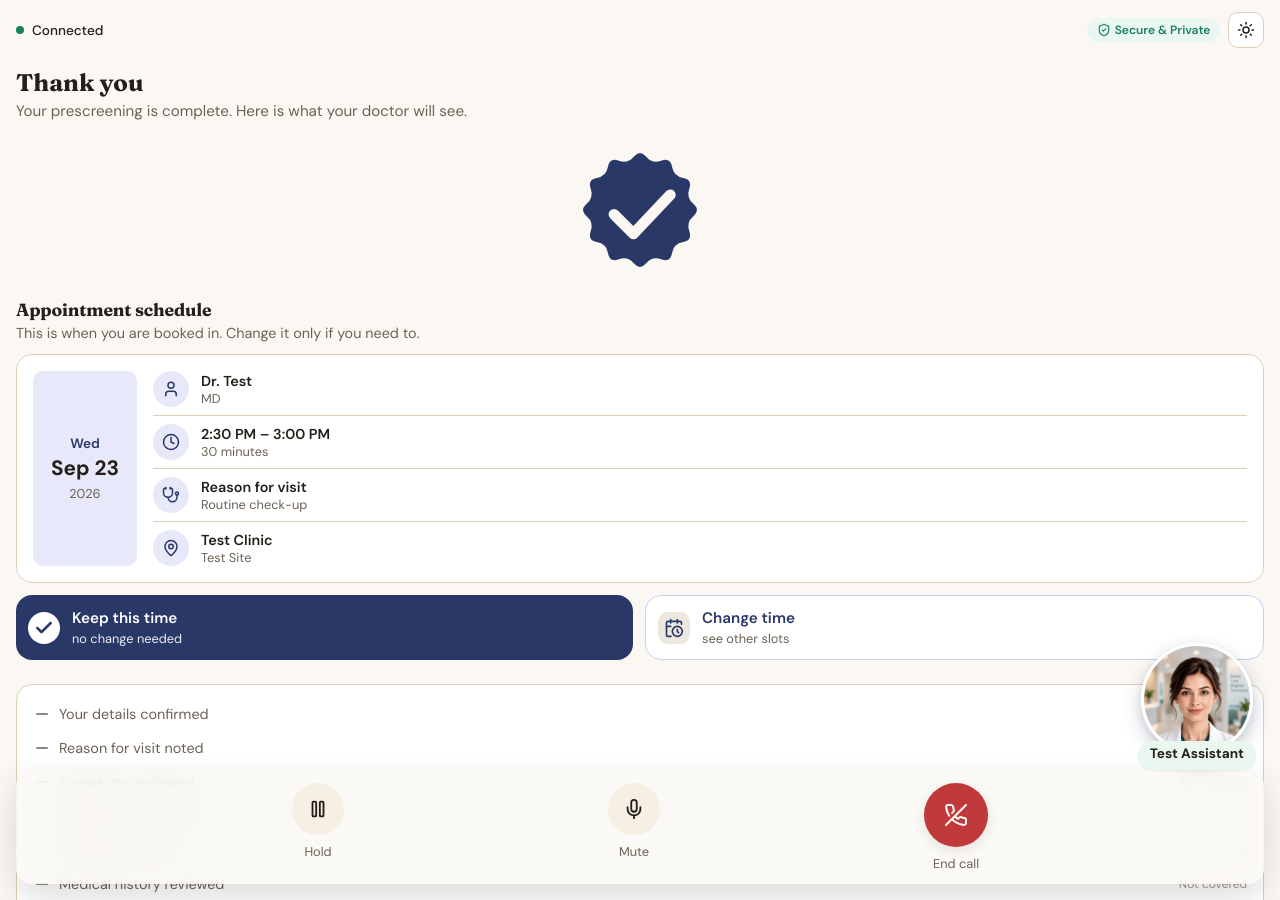
Scenario: ThankYou › tells the patient their answers are kept if they end early
Click the button named "end call" at (956, 815), box [924,783,988,847]
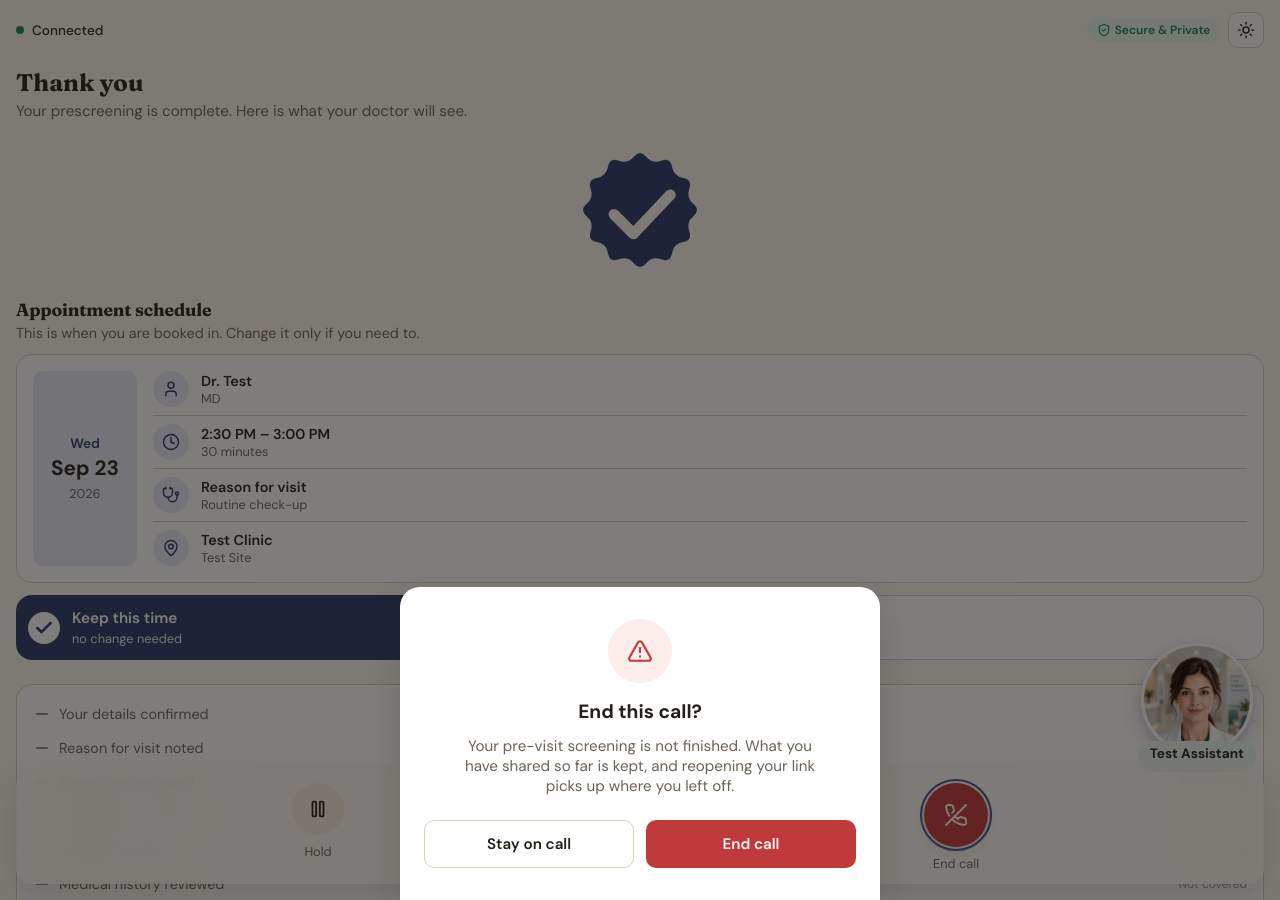
Expected: the text "picks up where you left off" is shown, [465,736,815,796]
